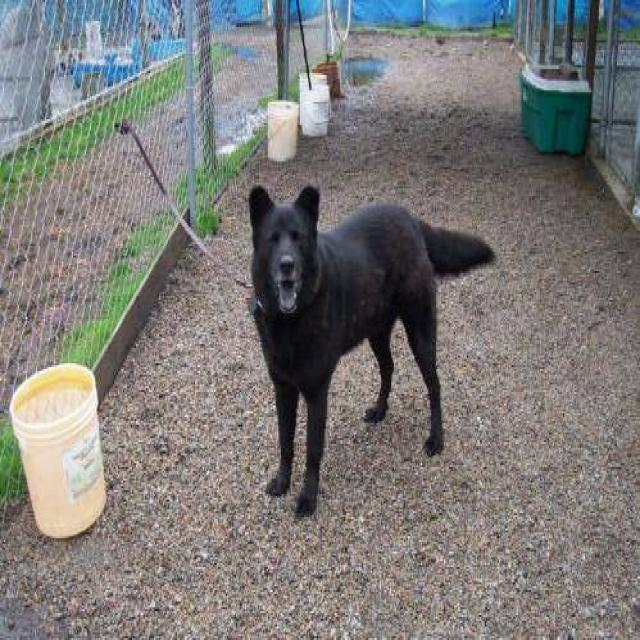dog: (246, 181, 495, 517)
